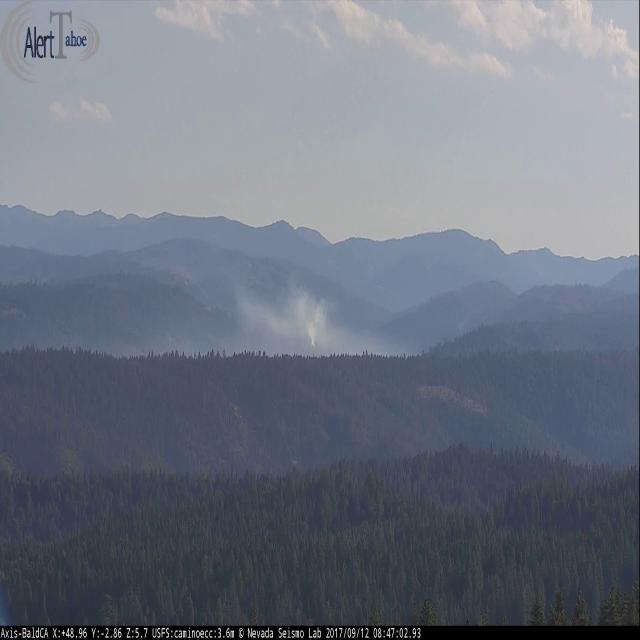smoke: (198, 260, 388, 356)
